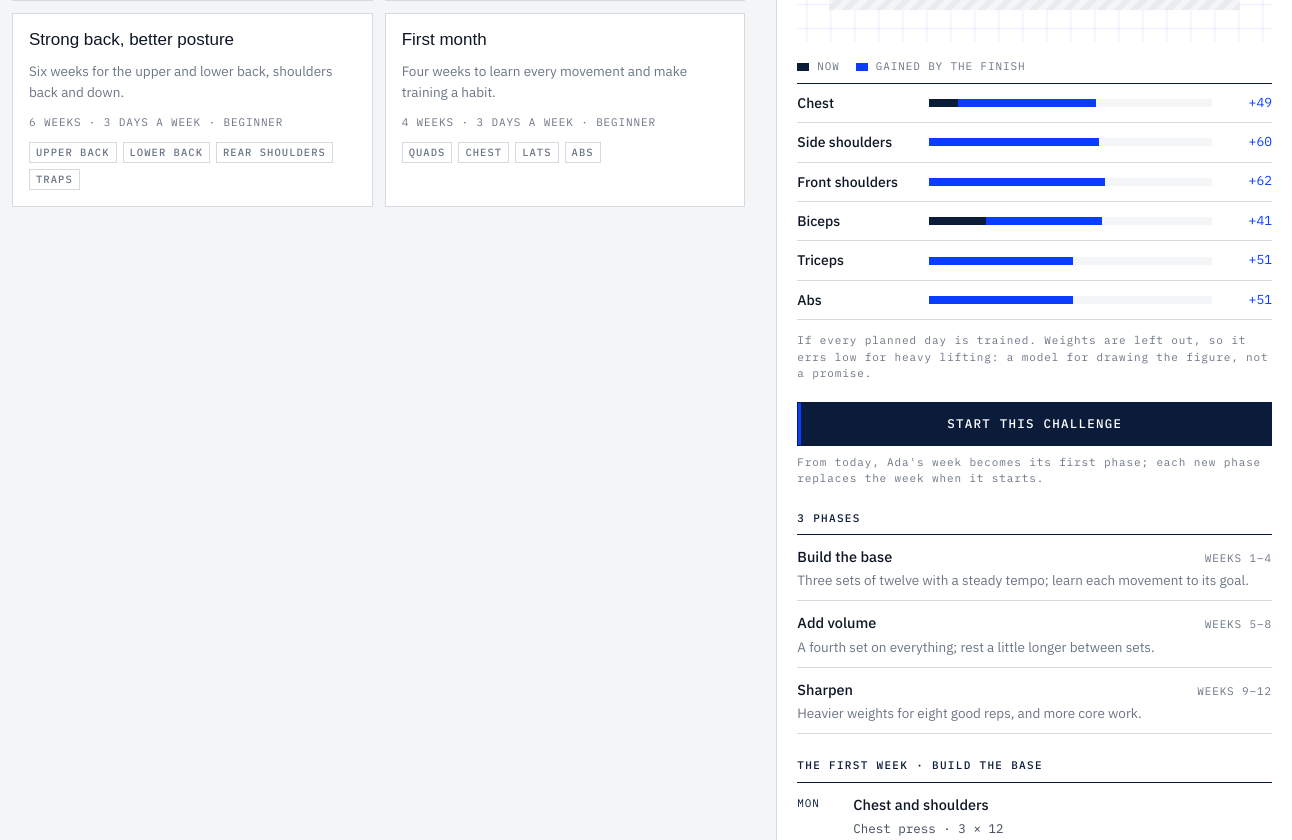
it: ChallengesPage › says why a start failed, and lets it be tried again
(page scrolled)
Click the button "Start this challenge" at (1035, 424), box [797,402,1272,446]
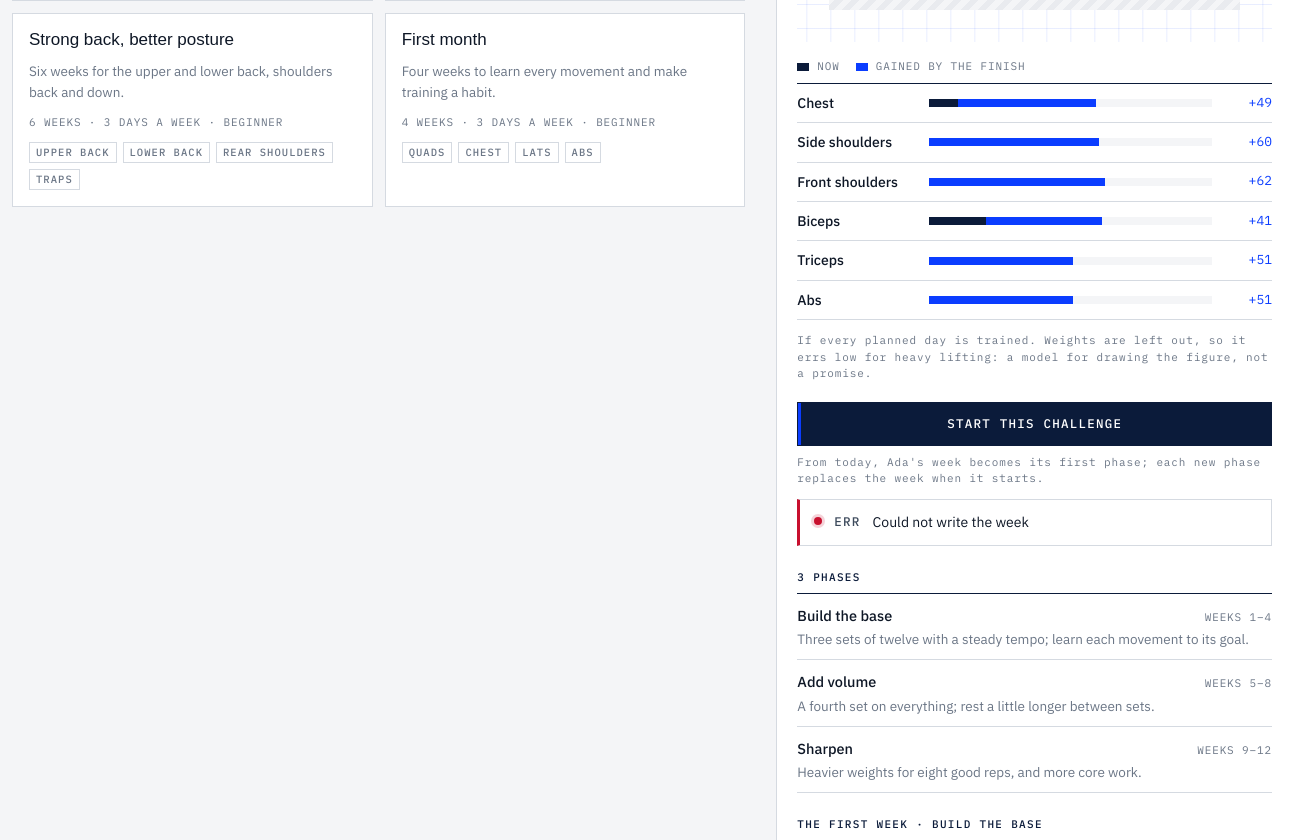
Expected: the text "Could not write the week" is shown, [873,513,1029,531]
